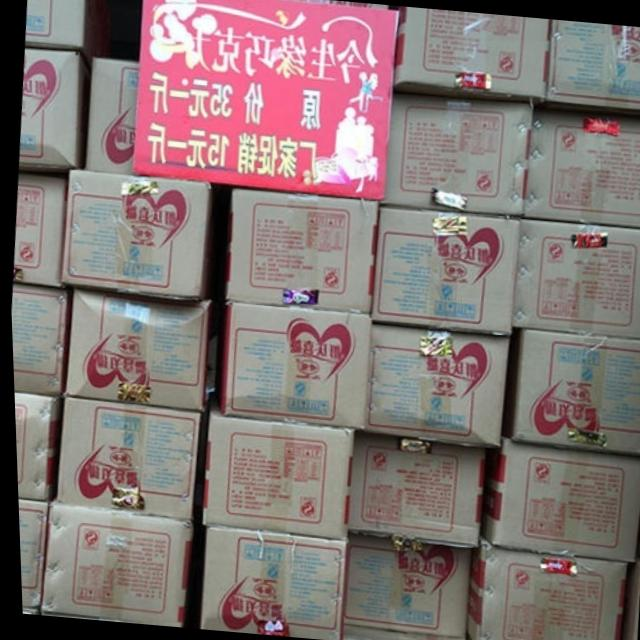box: (197, 391, 352, 540), (476, 437, 640, 562), (58, 171, 219, 297), (34, 502, 196, 626), (50, 397, 206, 523), (371, 206, 521, 337), (65, 290, 226, 412), (223, 190, 379, 315), (219, 304, 368, 429), (358, 324, 505, 450), (383, 92, 532, 215), (505, 328, 640, 460), (348, 431, 484, 551), (194, 526, 341, 637), (392, 7, 554, 107), (459, 542, 623, 640), (508, 218, 640, 337), (522, 107, 640, 230), (337, 533, 466, 638), (544, 21, 640, 114), (18, 47, 86, 175), (76, 58, 137, 173), (25, 0, 137, 60), (12, 171, 66, 292), (9, 283, 66, 395), (11, 391, 61, 502), (15, 499, 49, 608), (337, 623, 459, 640)
